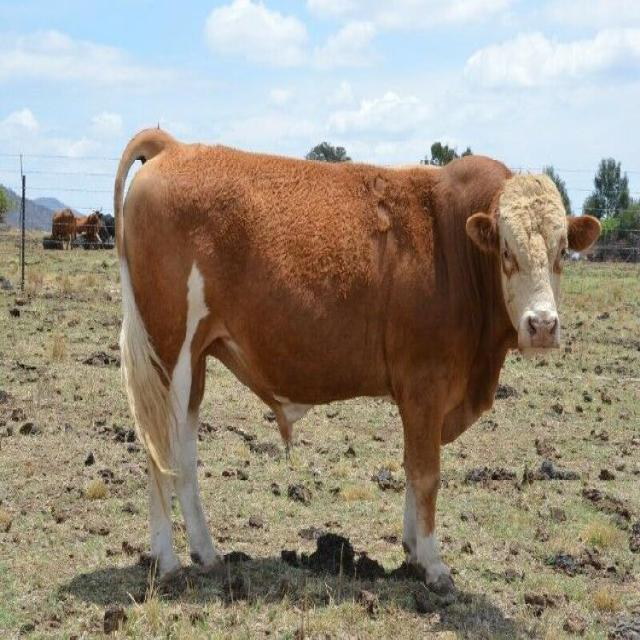cowFace: (464, 139, 607, 391)
